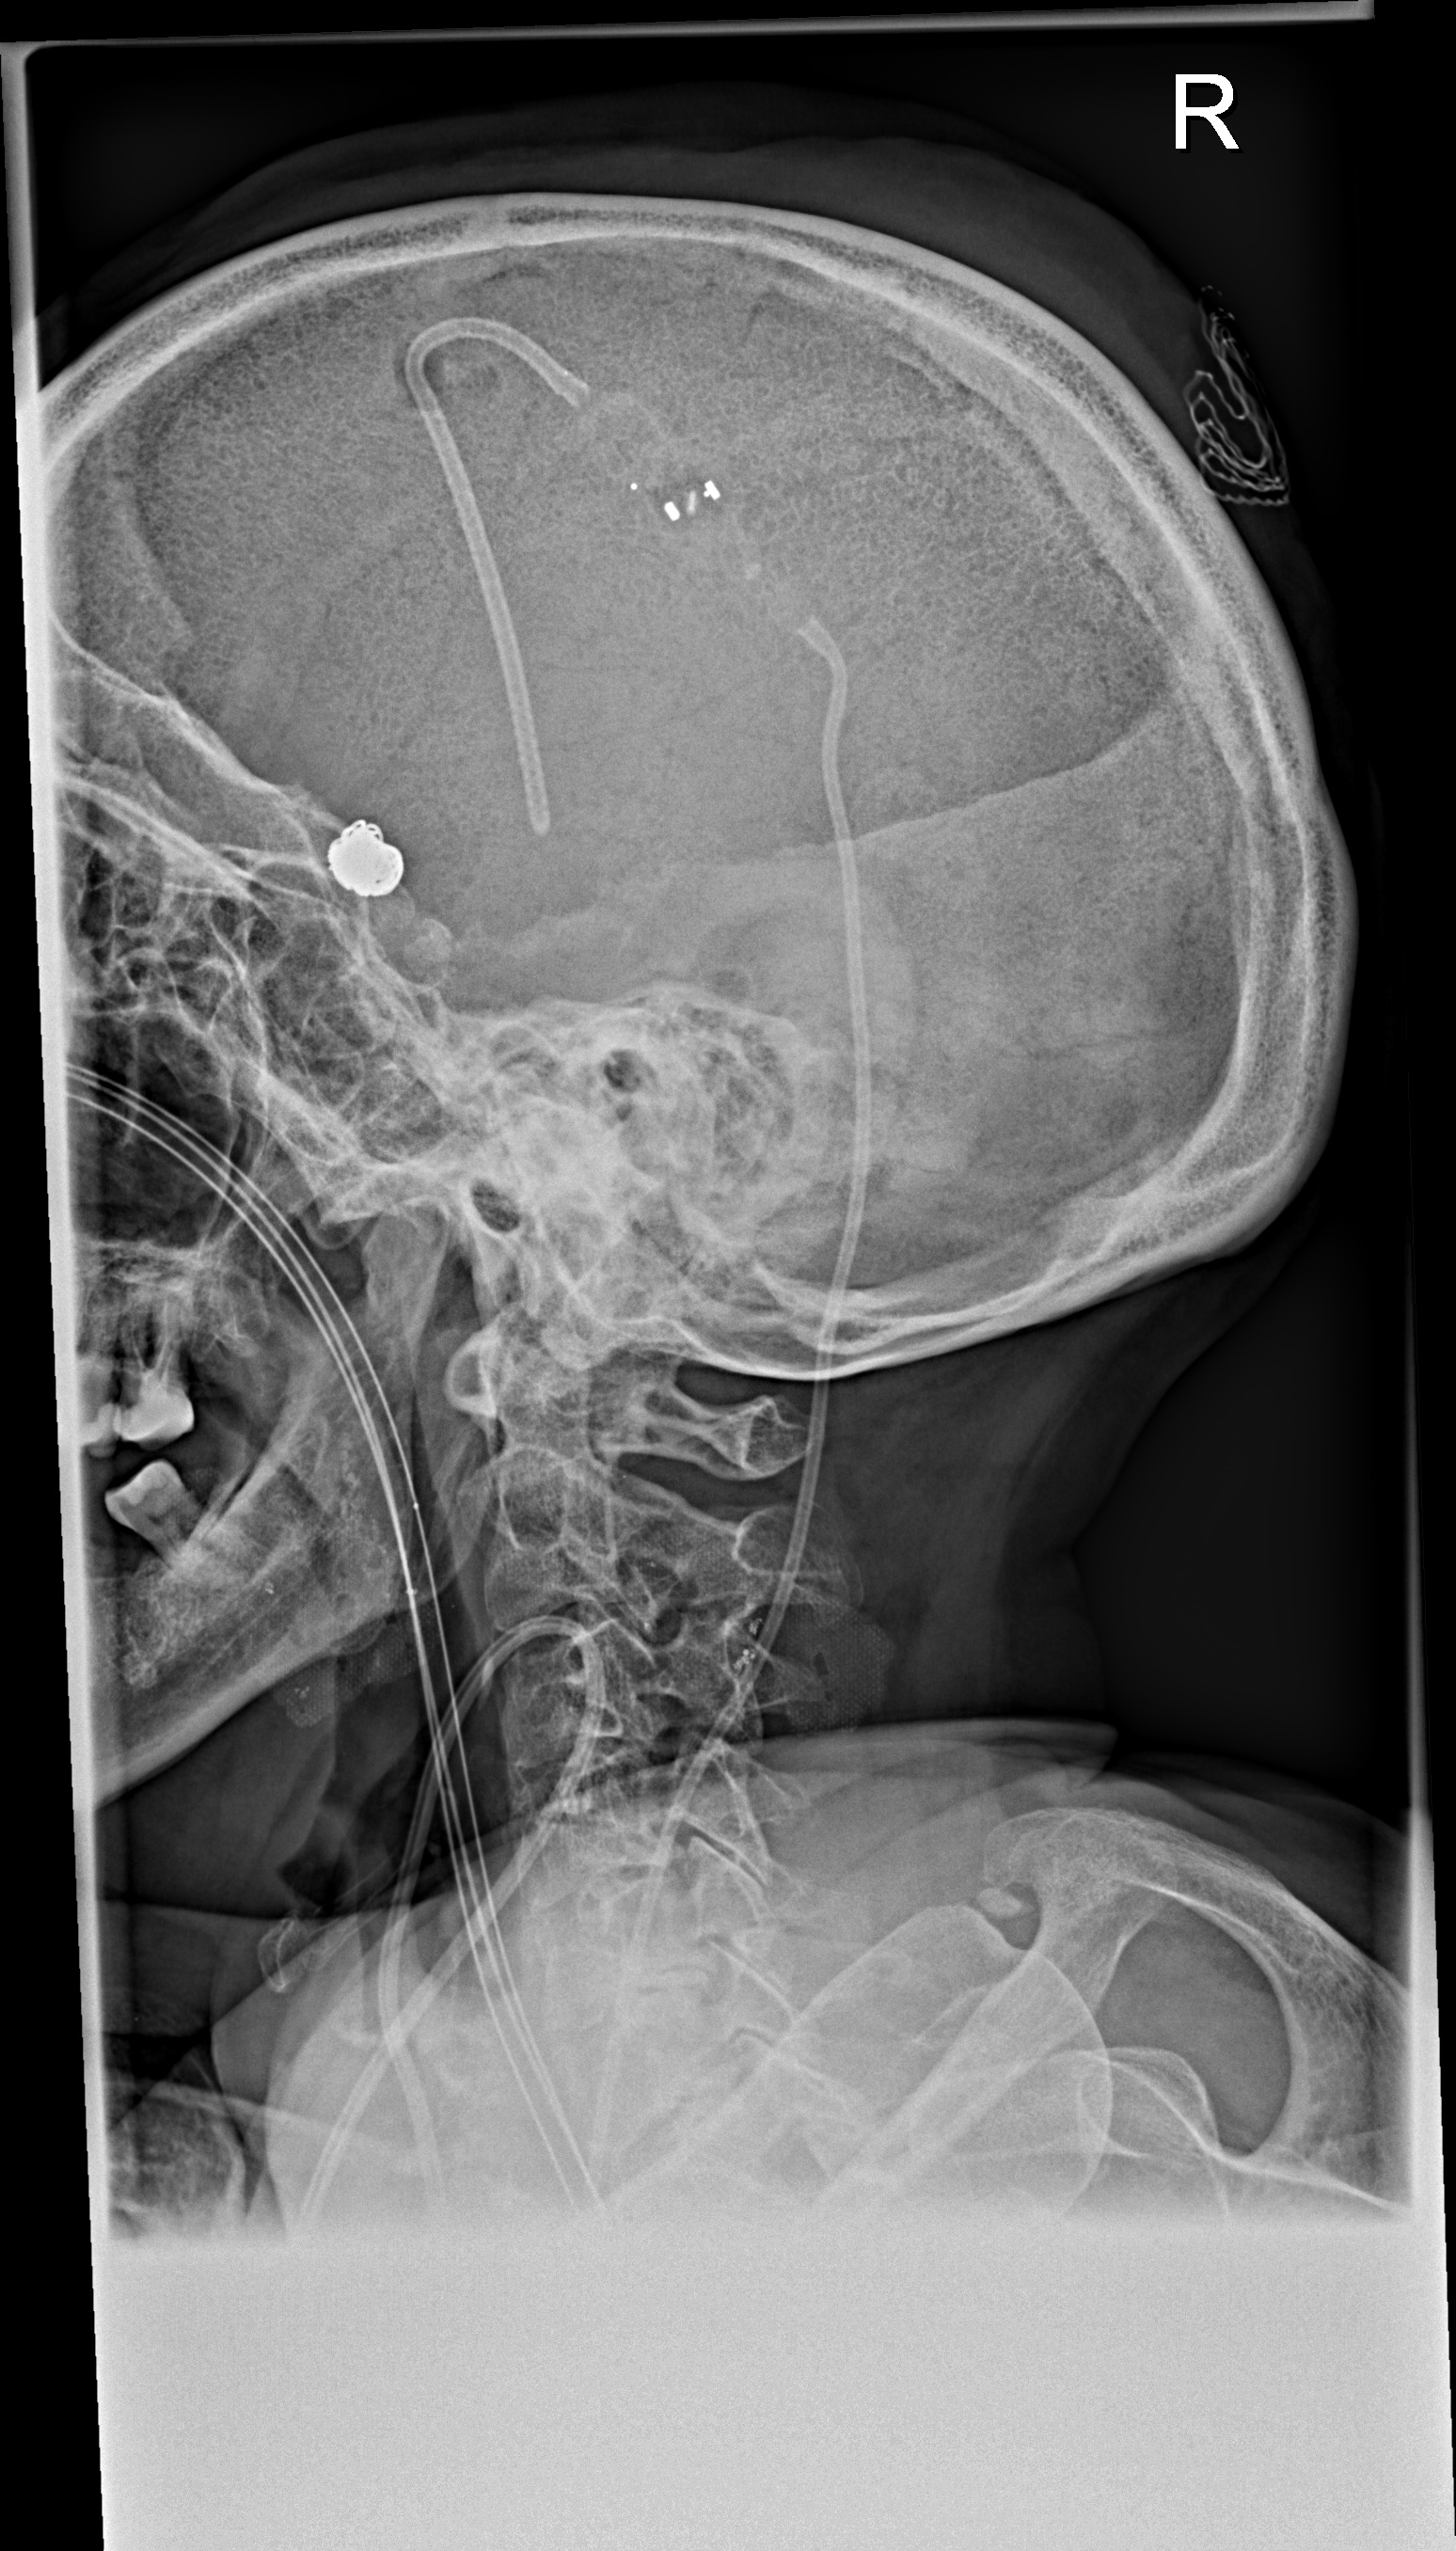Codman Certas: (606, 449, 748, 568)
